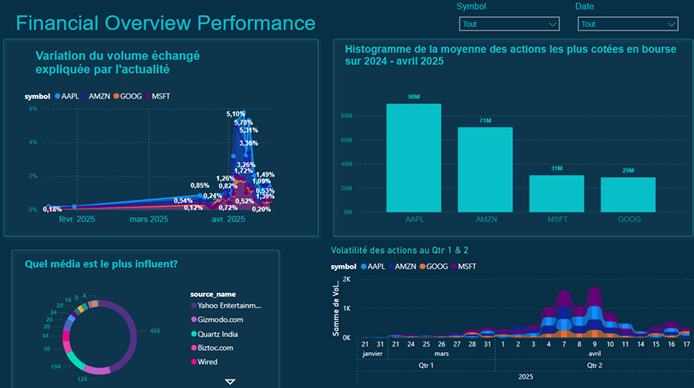

What the dashboard file says about the page in this screenshot:
{"tool":"powerbi","page":{"name":"Analyse Bourse & News","canvas":[1280,720],"ordinal":0},"visuals":[{"type":"shape","box":[15.6,62.2,583.6,373.5],"z":0},{"type":"textbox","box":[41.8,16.5,583.6,68.1],"z":1000},{"type":"areaChart","fields":{"Y":["Sum(curated.volume)"],"Category":["curated.date_only.Variation.Hiérarchie de dates.Année","curated.date_only.Variation.Hiérarchie de dates.Trimestre","curated.date_only.Variation.Hiérarchie de dates.Mois","curated.date_only.Variation.Hiérarchie de dates.Jour"],"Series":["curated.symbol"]},"box":[58.4,153.7,480.5,257.8],"z":2000},{"type":"textbox","box":[77.8,84.6,393.9,69.1],"z":3000},{"type":"shape","box":[607.9,62.2,665.3,373.5],"z":4000},{"type":"clusteredColumnChart","fields":{"Category":["curated.symbol"],"Y":["Avg(curated.volume)"]},"box":[625.4,153.7,631.2,257.8],"z":5000},{"type":"textbox","box":[633.2,73.9,613.7,69.1],"z":5001},{"type":"shape","box":[30.2,440.6,499.9,273.3],"z":5002},{"type":"donutChart","fields":{"Category":["curated.source_name"],"Y":["CountNonNull(curated.title)"]},"box":[30.2,514.5,475.6,184.8],"z":5003},{"type":"textbox","box":[58.4,456.2,355,43.8],"z":5004},{"type":"slicer","title":"Date","fields":{"Values":["curated.date_only"]},"box":[1046.6,4.9,200.4,57.4],"z":5005},{"type":"slicer","title":"Symbol","fields":{"Values":["curated.symbol"]},"box":[833.6,4.9,200.4,57.4],"z":5006},{"type":"ribbonChart","title":"Volatilité des actions au Qtr 1 & 2","fields":{"Y":["Sum(curated.Volatilité_Ligne)"],"Series":["curated.symbol"],"Category":["curated.date_only.Variation.Hiérarchie de dates.Année","curated.date_only.Variation.Hiérarchie de dates.Trimestre","curated.date_only.Variation.Hiérarchie de dates.Mois","curated.date_only.Variation.Hiérarchie de dates.Jour"]},"box":[608,441,665,273],"z":5007}]}

Visuals, with their boxes in screenshot pixels (x1, y1, x2, y2), scaled from the page's 1280x720 canvas onto the 694x388 screenshot:
shape: pyautogui.locateOnScreen(8, 34, 325, 235)
textbox: pyautogui.locateOnScreen(23, 9, 339, 46)
areaChart - Sum(curated.volume) x curated.date_only.Variation.Hiérarchie de dates.Année: pyautogui.locateOnScreen(32, 83, 292, 222)
textbox: pyautogui.locateOnScreen(42, 46, 256, 83)
shape: pyautogui.locateOnScreen(330, 34, 690, 235)
clusteredColumnChart - curated.symbol x Avg(curated.volume): pyautogui.locateOnScreen(339, 83, 681, 222)
textbox: pyautogui.locateOnScreen(343, 40, 676, 77)
shape: pyautogui.locateOnScreen(16, 237, 287, 385)
donutChart - curated.source_name x CountNonNull(curated.title): pyautogui.locateOnScreen(16, 277, 274, 377)
textbox: pyautogui.locateOnScreen(32, 246, 224, 269)
"Date" slicer: pyautogui.locateOnScreen(567, 3, 676, 34)
"Symbol" slicer: pyautogui.locateOnScreen(452, 3, 561, 34)
"Volatilité des actions au Qtr 1 & 2" ribbonChart: pyautogui.locateOnScreen(330, 238, 690, 385)
